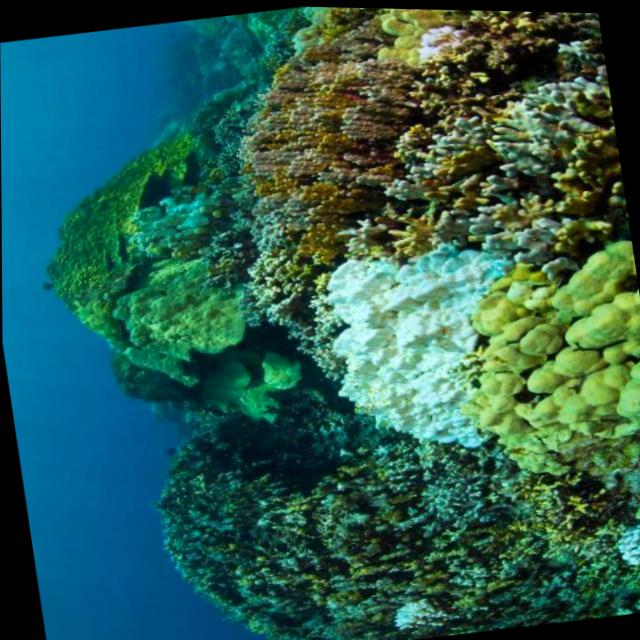Bleached Coral: (317, 227, 515, 470), (401, 7, 467, 72), (376, 582, 450, 638), (613, 497, 640, 572)
Healthy Coral: (45, 127, 270, 410), (179, 425, 355, 640), (472, 257, 640, 474)
